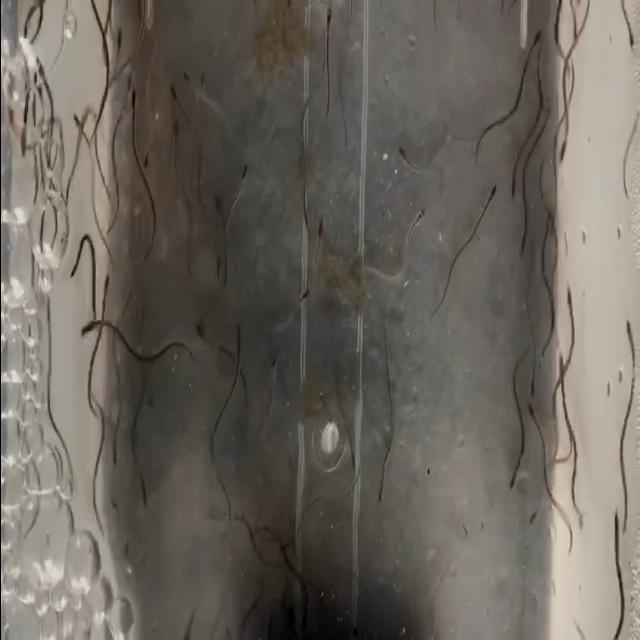active_glass_eel: (370, 472, 394, 522), (290, 276, 316, 318), (190, 311, 218, 349), (310, 202, 331, 251), (392, 120, 416, 162), (512, 217, 532, 262), (180, 42, 198, 90), (340, 445, 361, 485), (74, 312, 97, 346), (64, 248, 83, 288), (198, 63, 214, 109), (137, 472, 154, 514), (558, 122, 572, 170), (413, 194, 429, 236), (298, 583, 314, 625), (320, 0, 339, 34), (106, 435, 122, 473), (621, 18, 635, 60), (504, 459, 520, 494), (504, 166, 518, 206), (113, 19, 124, 68), (521, 368, 537, 400), (170, 118, 186, 150), (564, 18, 582, 46), (122, 66, 136, 102), (99, 264, 113, 300), (166, 80, 179, 118), (486, 175, 501, 207), (240, 154, 252, 194), (560, 286, 576, 315), (128, 86, 140, 120), (526, 401, 542, 424), (73, 110, 87, 136), (556, 349, 568, 379), (622, 311, 632, 345), (142, 136, 152, 170), (612, 506, 622, 537), (532, 22, 544, 44), (234, 324, 244, 348)
